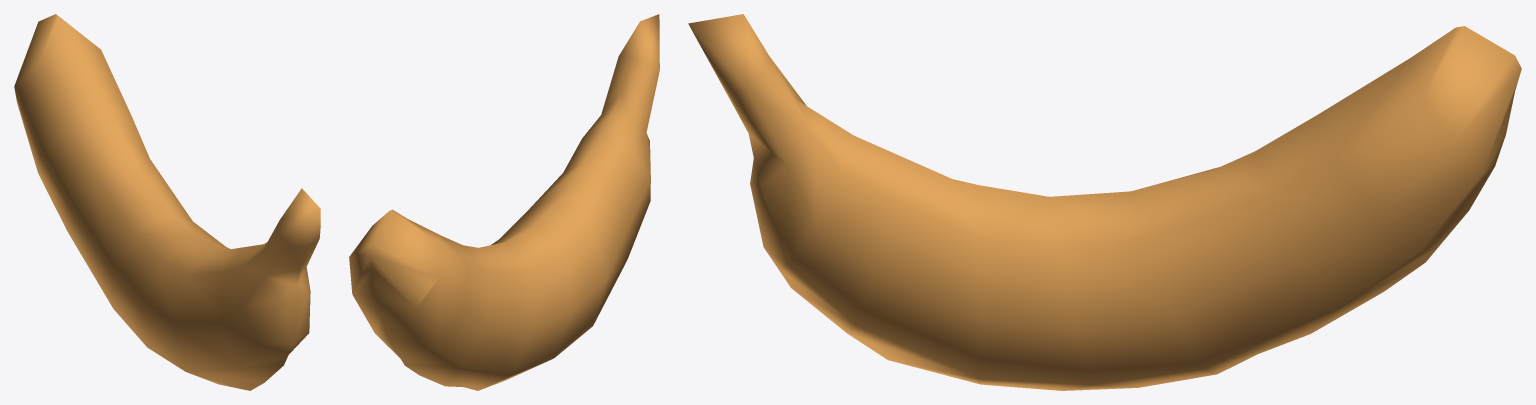
File: banana1_6.dae
The picture shows the model from 3 angles, left to right: view 1: azimuth 30°, elevation 25°; view 2: azimuth 150°, elevation 25°; view 3: azimuth 270°, elevation 25°; orthographic projection. The views are drawn at different scales.
Parts seen in each view (by area): view 1: banana1_019; view 2: banana1_019; view 3: banana1_019.
Part boxes in pixels (x1=…): banana1_019: x1=14, y1=14, x2=320, y2=390; banana1_019: x1=349, y1=14, x2=659, y2=390; banana1_019: x1=688, y1=14, x2=1521, y2=390.
Bounding box in the file's own units: 0.0292 × 0.1547 × 0.0775.
